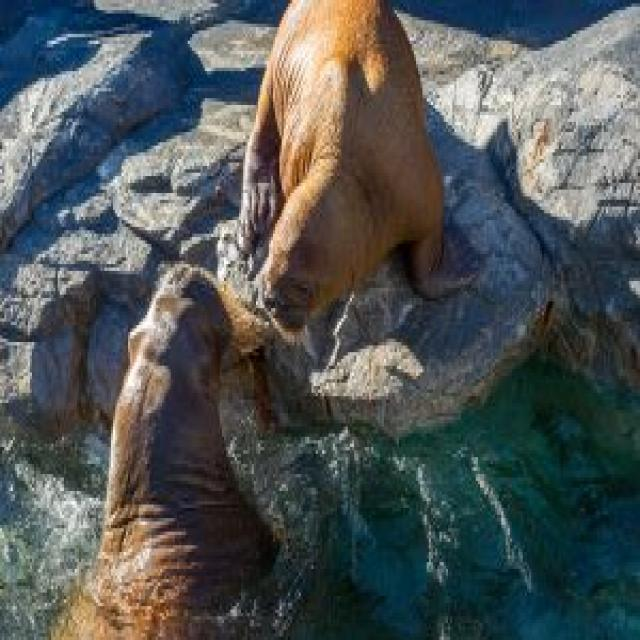walrus: (236, 0, 431, 329), (88, 240, 248, 640)
